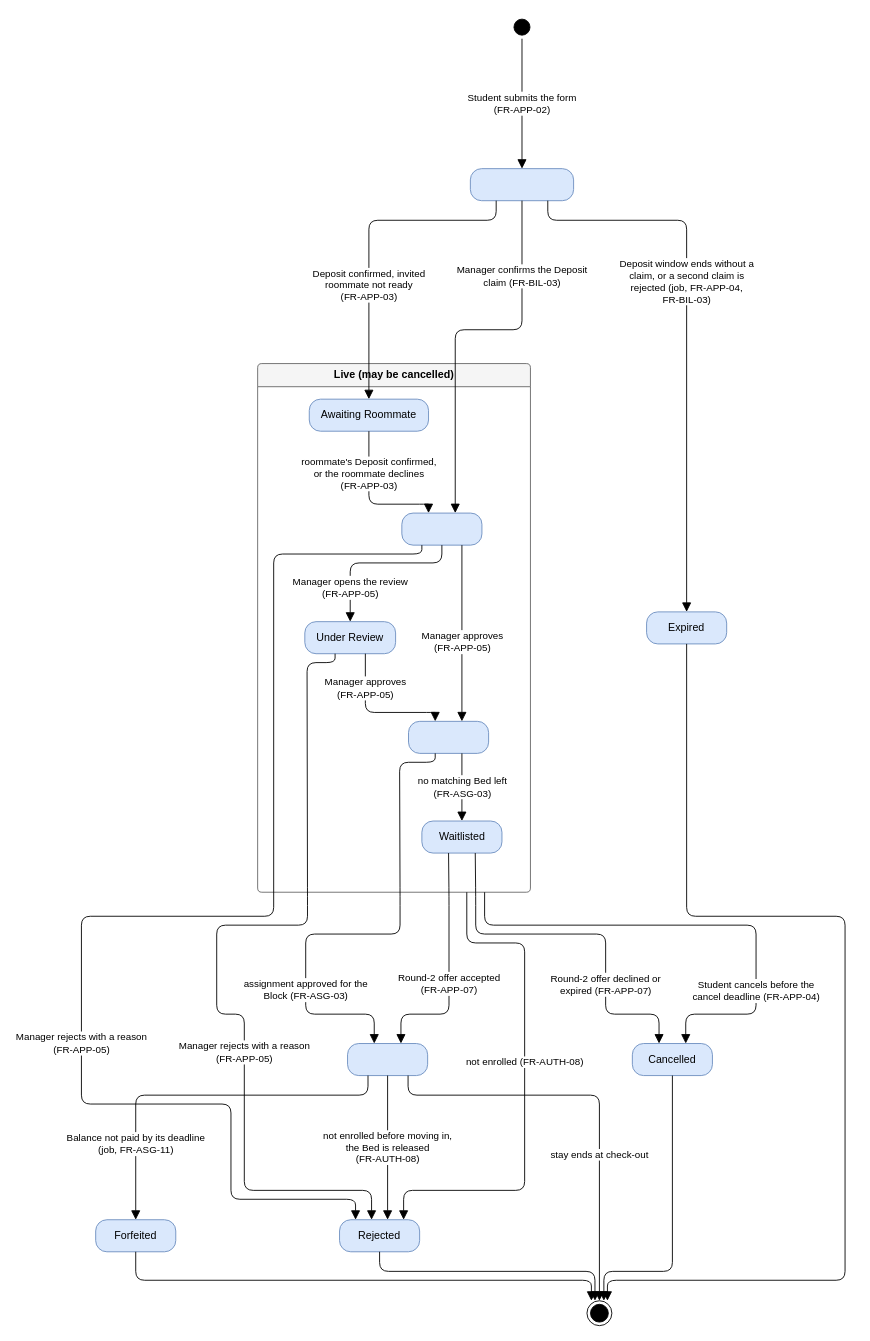
This 870x1341 diagram has some shape labels left out. Each missing label, with the box of its shape:
Allocated: (347, 1043, 428, 1076)
Approved: (408, 720, 489, 753)
Awaiting Deposit: (469, 168, 574, 201)
Submitted: (401, 512, 482, 545)
